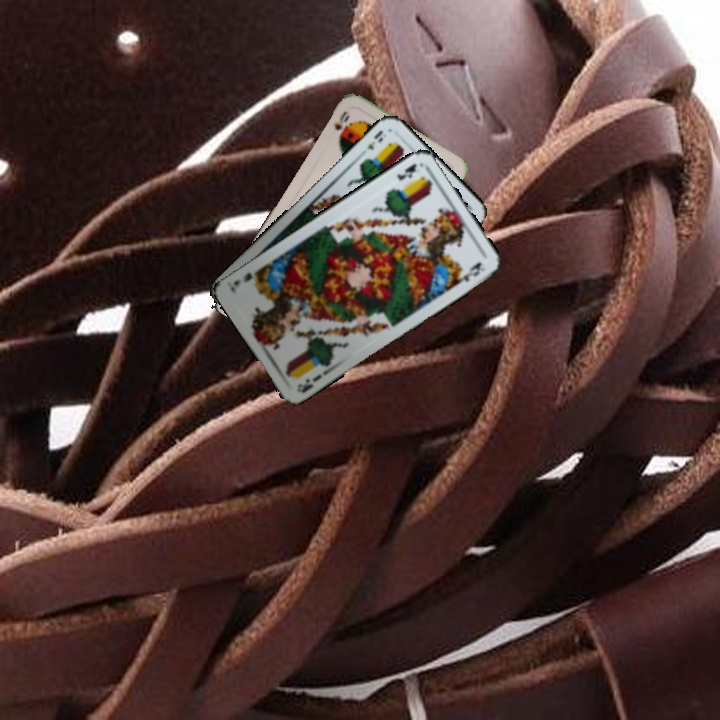EK: (293, 370, 324, 395), (362, 126, 385, 152), (393, 160, 419, 183)
SO: (329, 107, 352, 144)
